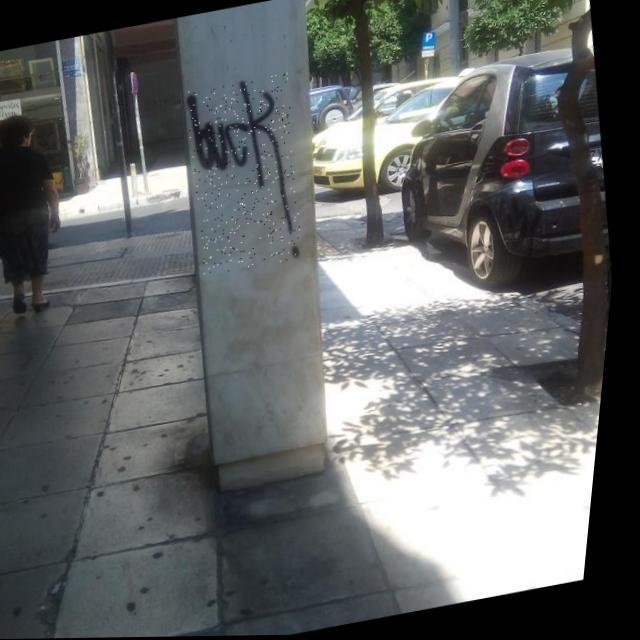-: (174, 72, 321, 278)
